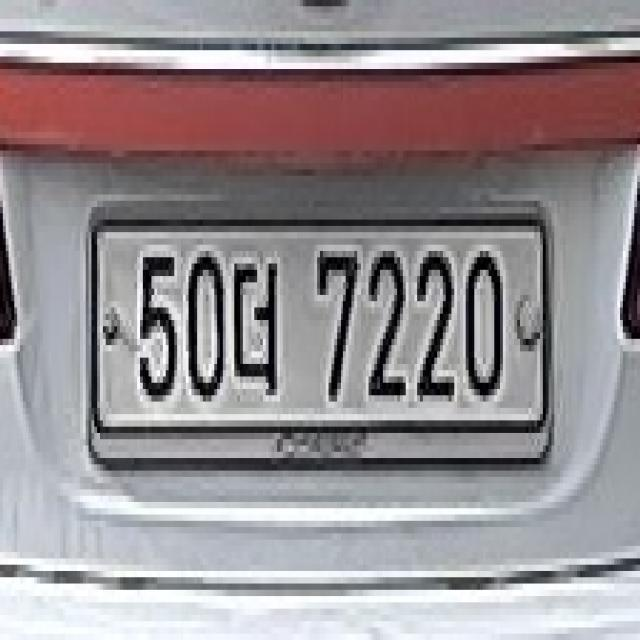0: (464, 239, 509, 412), (183, 250, 223, 404)
2: (365, 244, 412, 413), (414, 238, 460, 406)
5: (132, 242, 181, 414)
7: (317, 242, 359, 412)
deo: (234, 250, 286, 408)
license_plate: (80, 208, 560, 456)
